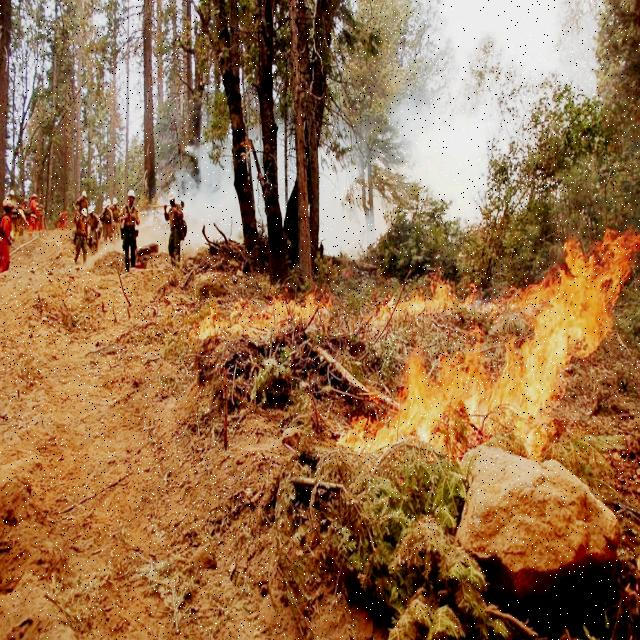api: (503, 240, 633, 447), (376, 345, 492, 446), (195, 296, 334, 342), (384, 290, 499, 328), (344, 403, 390, 463)
asap: (406, 103, 498, 221), (178, 151, 243, 249), (327, 163, 389, 264)
